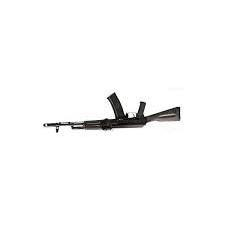larga: (42, 91, 182, 133)
